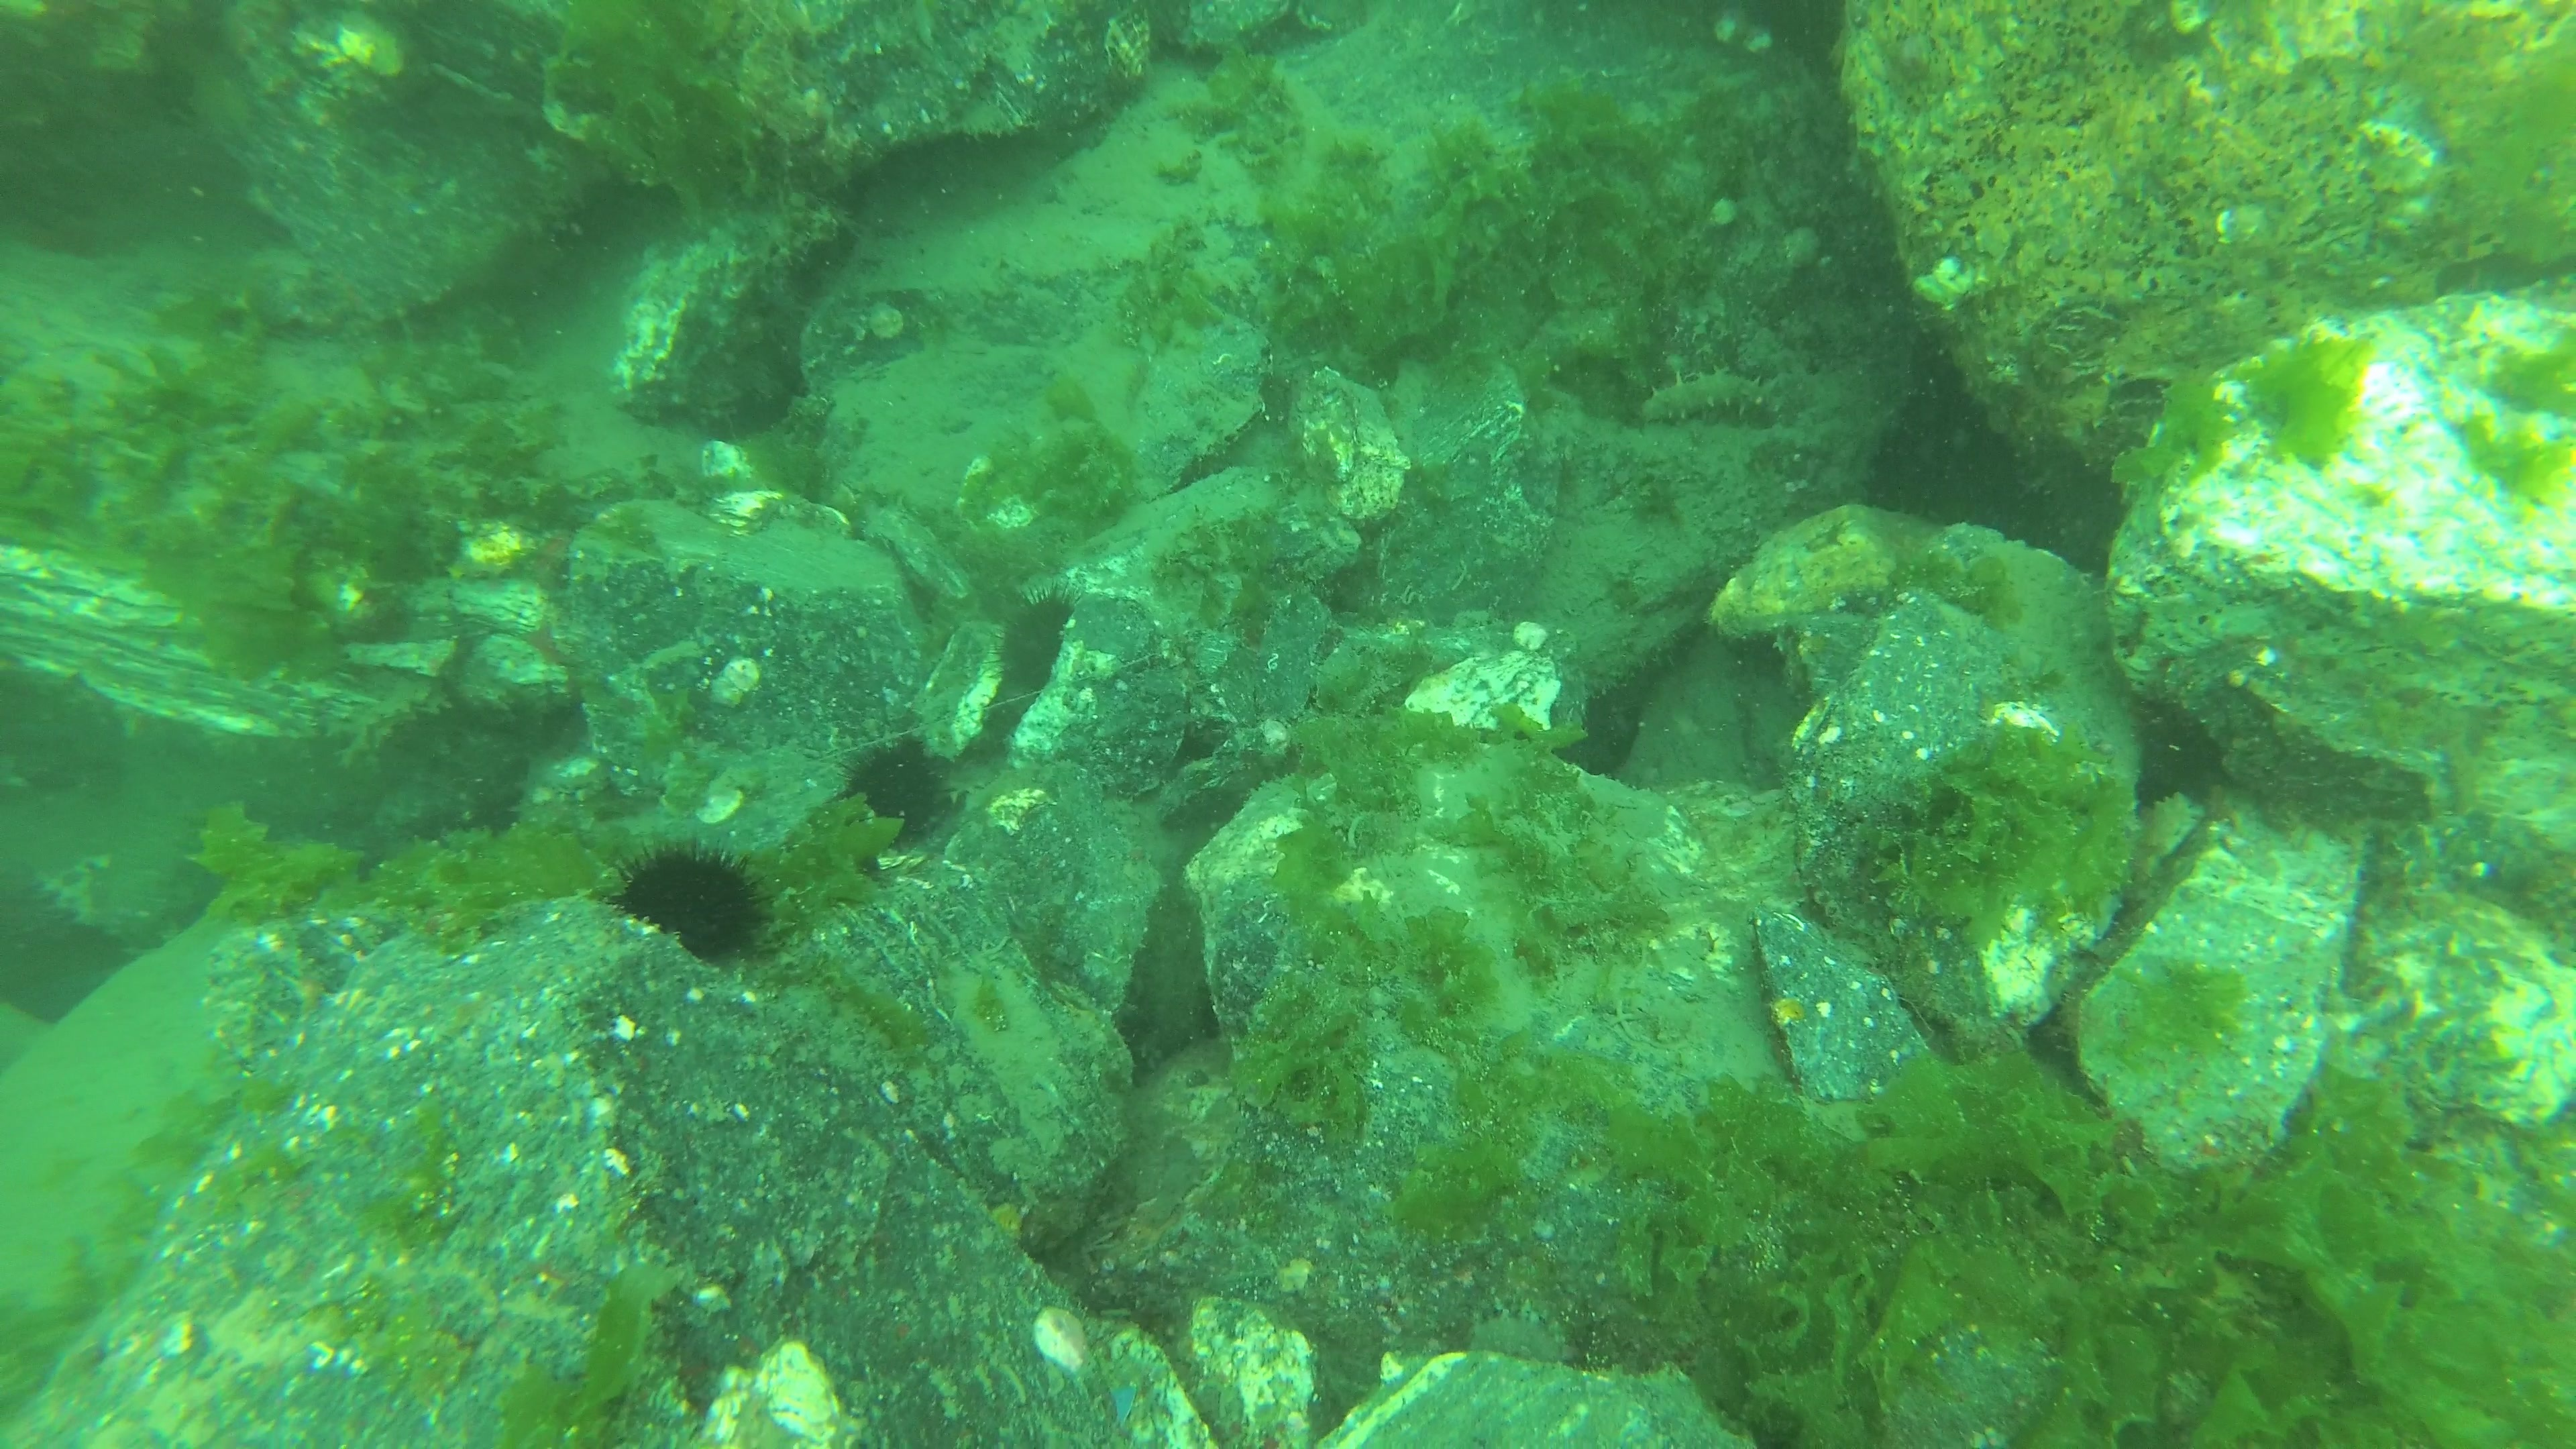echinus: (609, 835, 780, 966), (823, 736, 957, 840), (982, 584, 1081, 699)
holothurian: (1640, 356, 1799, 441)
